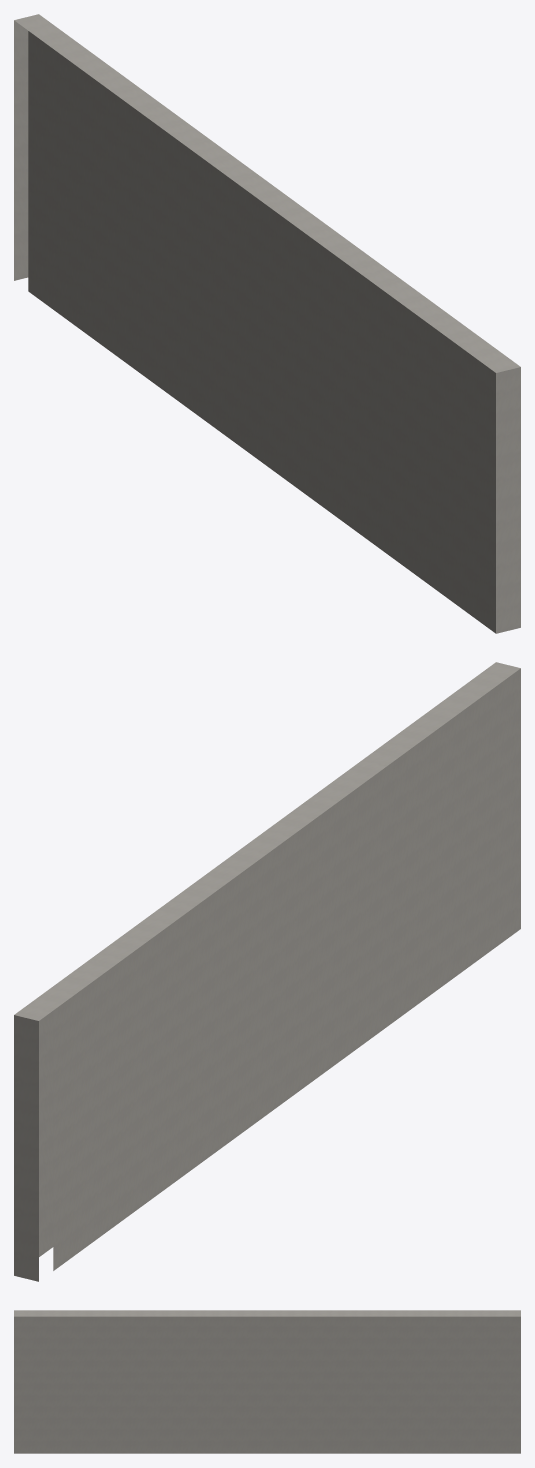
The model's file is fstWallT.obj.
The picture shows the model from 3 angles, top to bottom: view 1: azimuth 30°, elevation 25°; view 2: azimuth 150°, elevation 25°; view 3: azimuth 270°, elevation 25°; orthographic projection. The views are drawn at different scales.
Parts seen in each view (by area): view 1: Box011; view 2: Box011; view 3: Box011.
Boxes of the visible parts, bbox=[...] form: Box011: bbox=[14, 14, 520, 633]; Box011: bbox=[14, 662, 520, 1281]; Box011: bbox=[14, 1310, 520, 1453].
Size of the model in its own units: 11.81 by 118 by 396.
